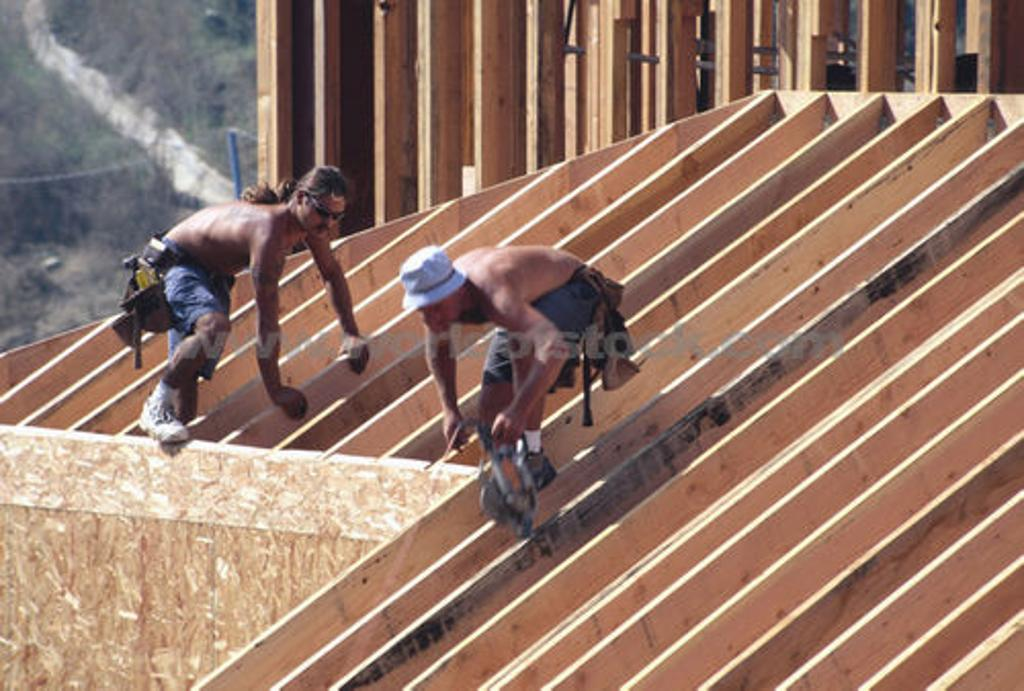face: (297, 189, 344, 236), (415, 289, 462, 323)
